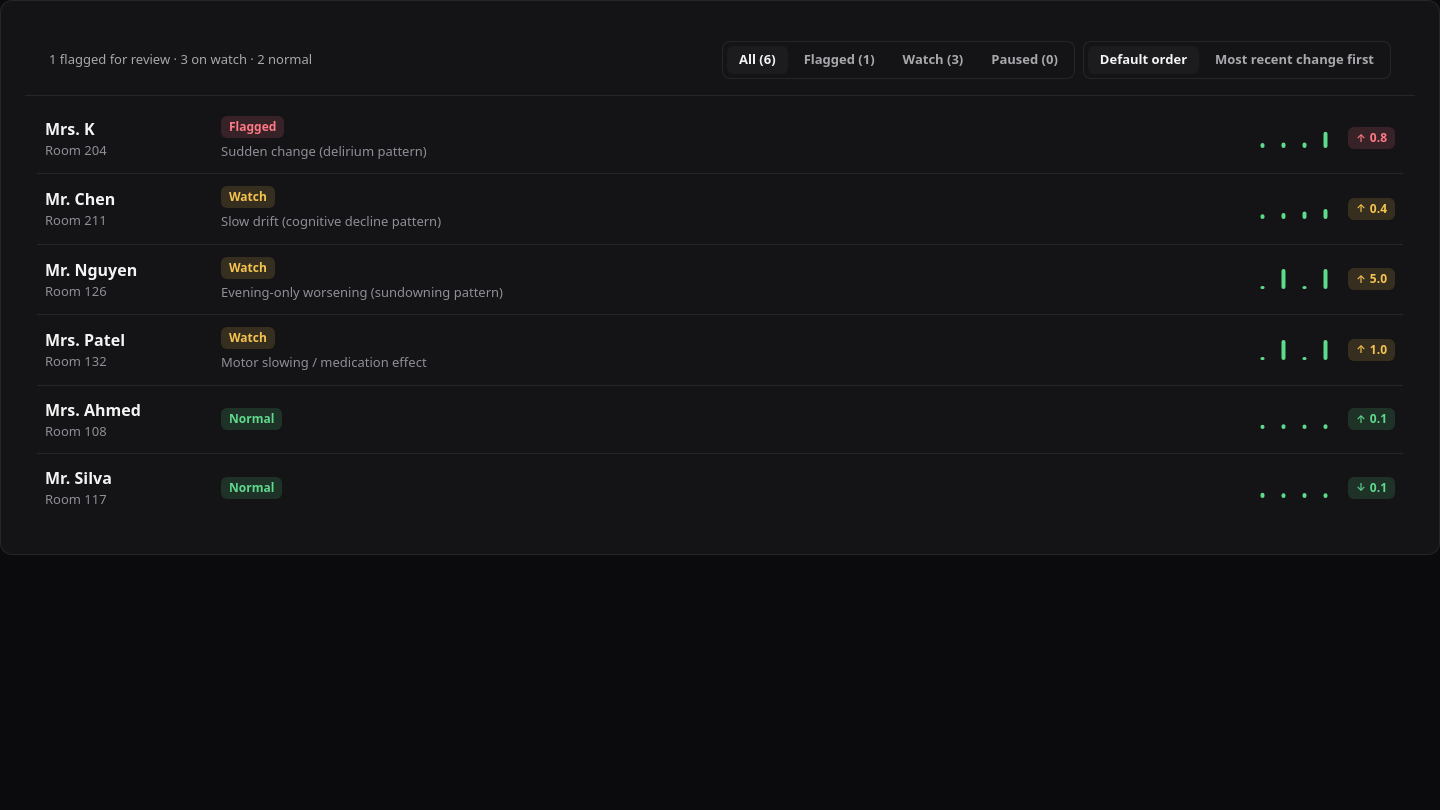
Test: UnitOverview › shows "No rooms paused." when the paused filter is empty
Expected: the number of list items is 6, [37,104,1403,173]; [37,173,1403,244]; [37,244,1403,314]; [37,314,1403,384]; [37,384,1403,453]; [37,453,1403,522]
What coordinates should you click on to do the following:
click the button "Paused (0)"
I would click on:
 (1025, 60)
Its box is [979,46,1070,74].
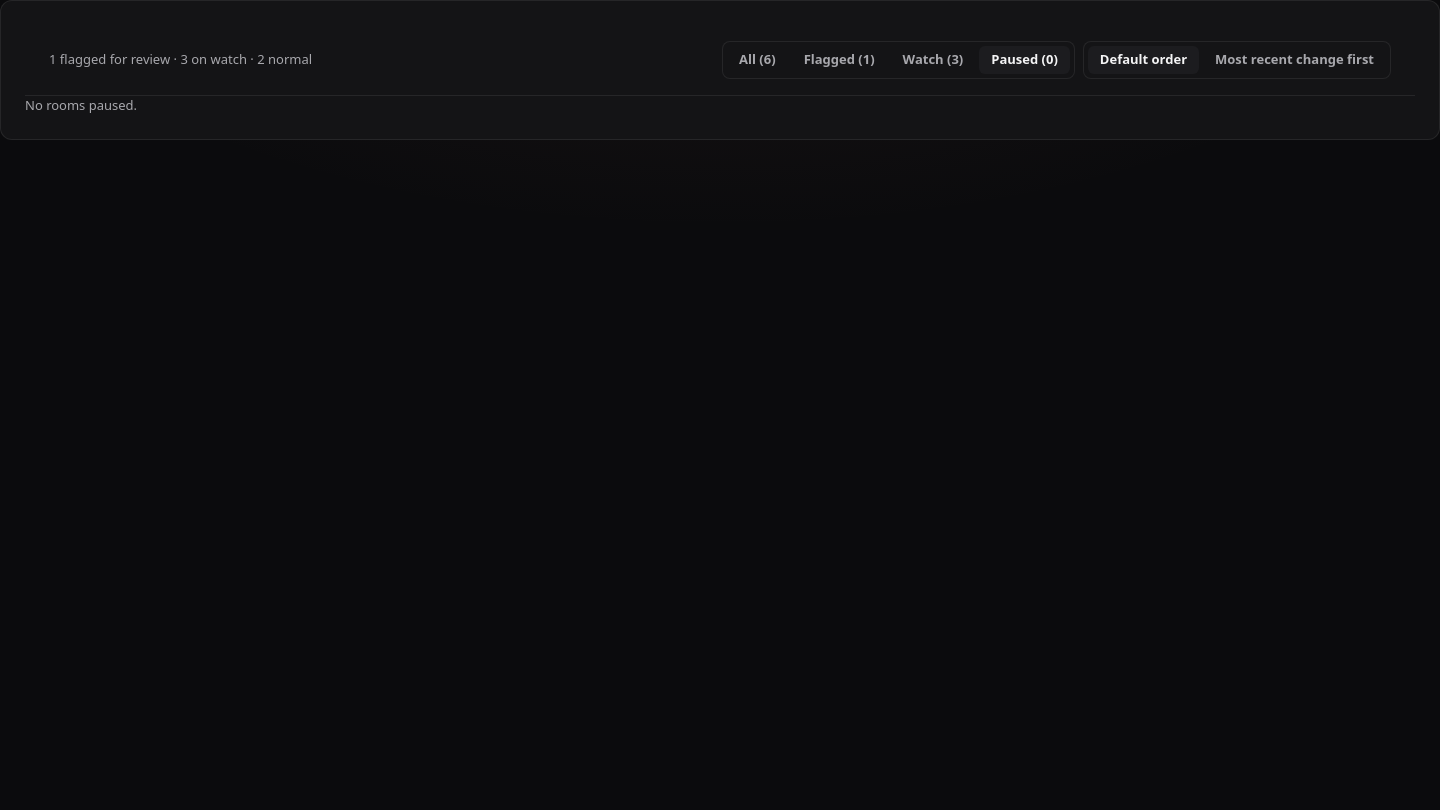
Result: the text "No rooms paused." is shown at [25,96,137,114]
Result: the list is gone
